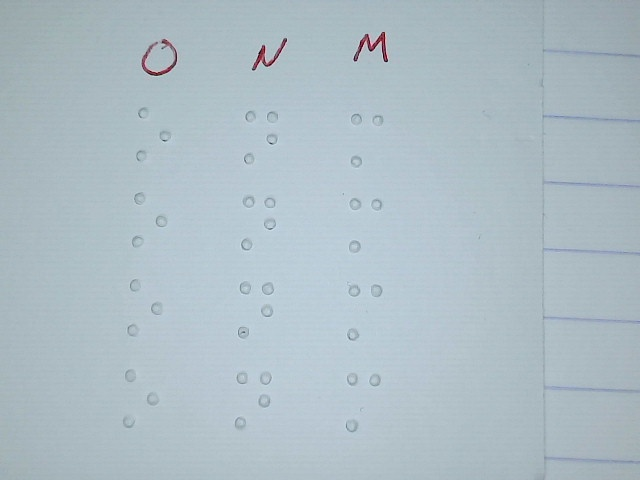M: (344, 372, 383, 433), (346, 283, 383, 341), (348, 197, 384, 252), (349, 112, 385, 166)
N: (234, 369, 272, 429), (237, 280, 274, 338), (244, 110, 280, 164), (241, 195, 277, 249)
O: (121, 367, 159, 427), (131, 191, 168, 249), (126, 277, 163, 335), (135, 107, 172, 162)
